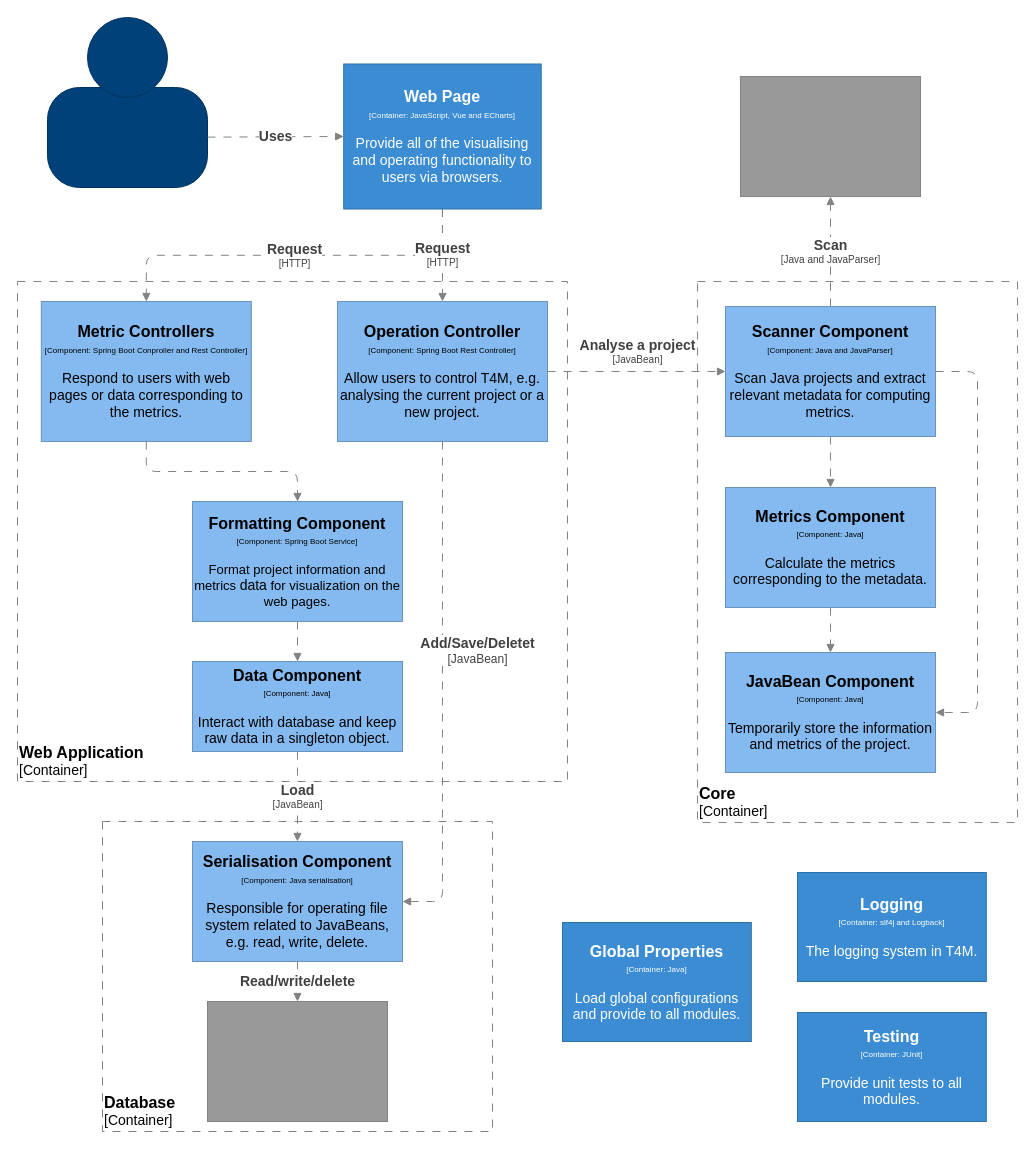
The diagram is 1035 pixels wide and 1149 high, and some of its shapes have lost their labels. The shapes that lost their labels are listed below. From the top down, each one's centre as x and y in pixels, then its label:
(127,137): User [Person] Java developers
(830,136): Java Project [File ] External Java projects that needs to be analysed
(297,1061): Local File System [File ] Where the serialised files placed.
